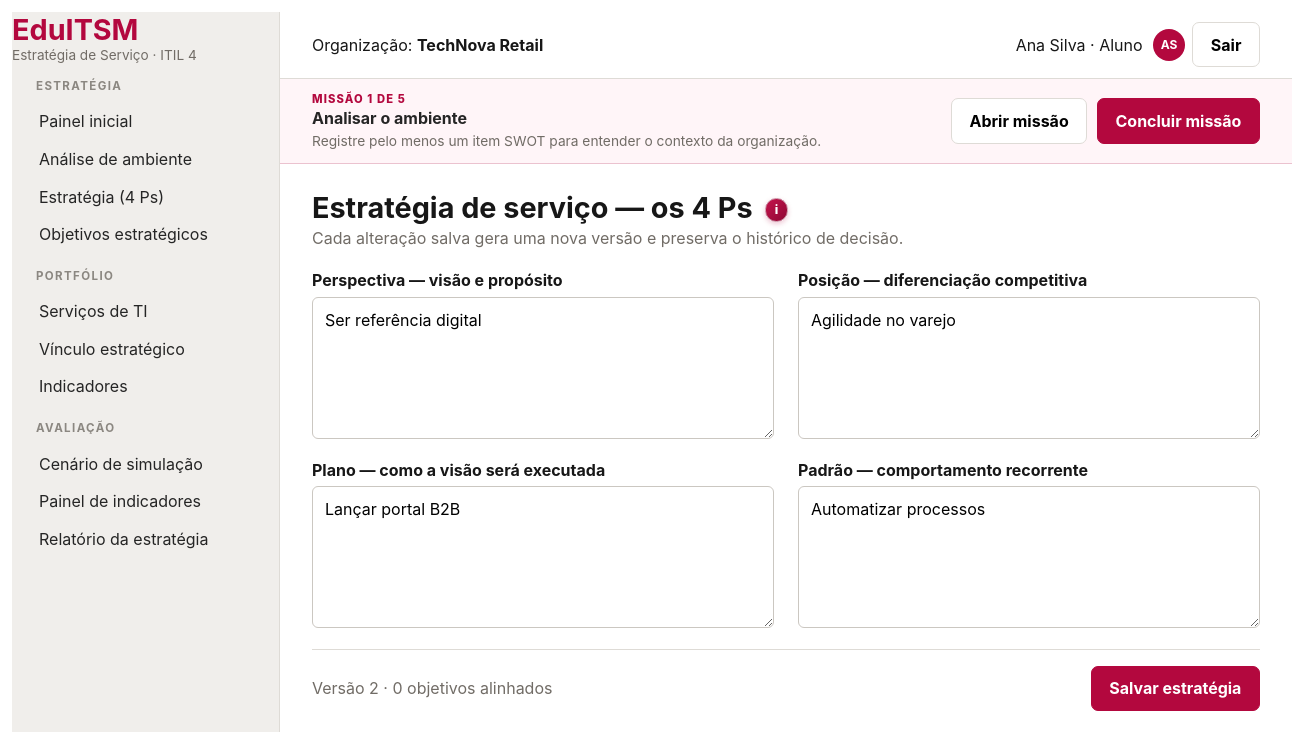
Test: T04 estratégia de serviço › não duplica o histórico quando a API confirma a versão atual sem alteração efetiva
The width and height of the screenshot is (1292, 732).
Click the button "Salvar estratégia".
click(1175, 688)  # box 1091,666 -> 1260,711
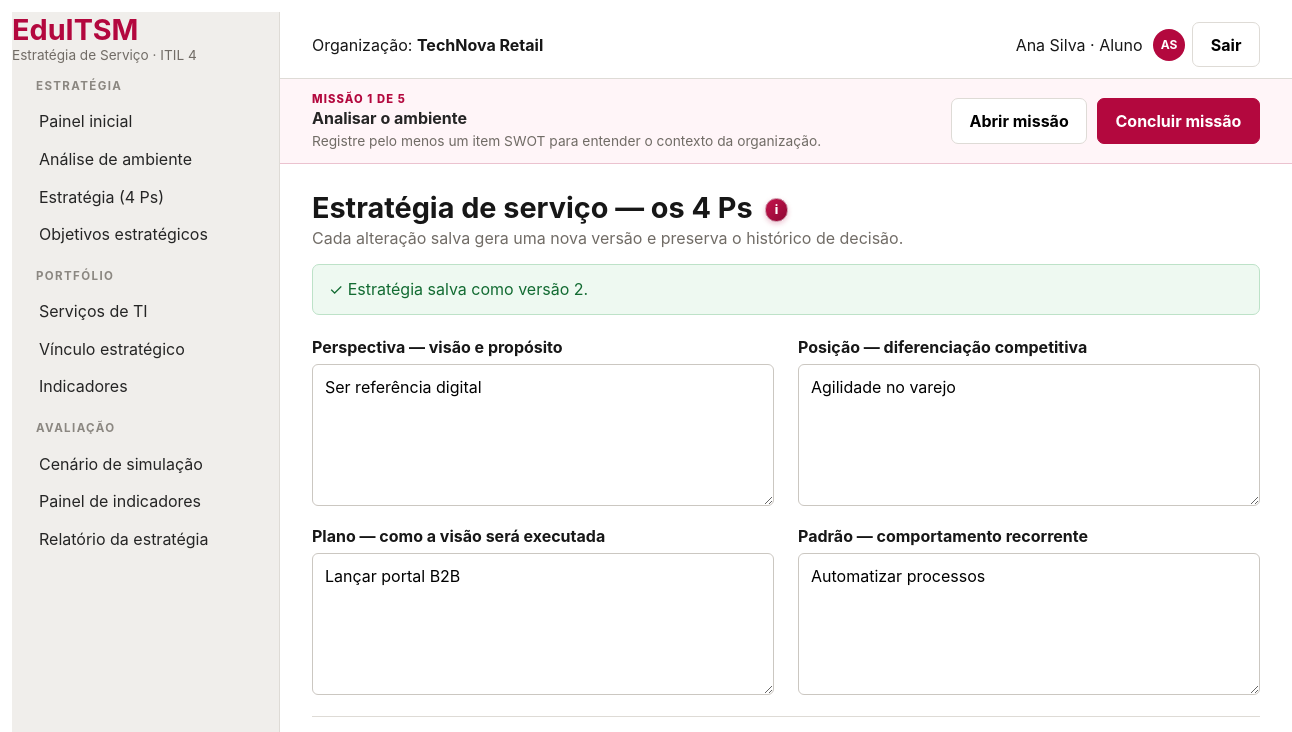
Check: the message shows "Estratégia salva como versão 2.", box 348,279 -> 588,299
